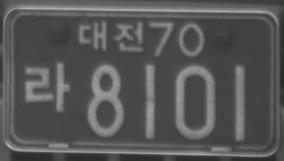0: (173, 63, 216, 142), (177, 21, 206, 58)
1: (224, 64, 253, 144), (136, 63, 166, 140)
7: (145, 20, 176, 57)
8: (85, 63, 126, 139)
대전_O: (77, 19, 145, 53)
라: (23, 60, 71, 113)
